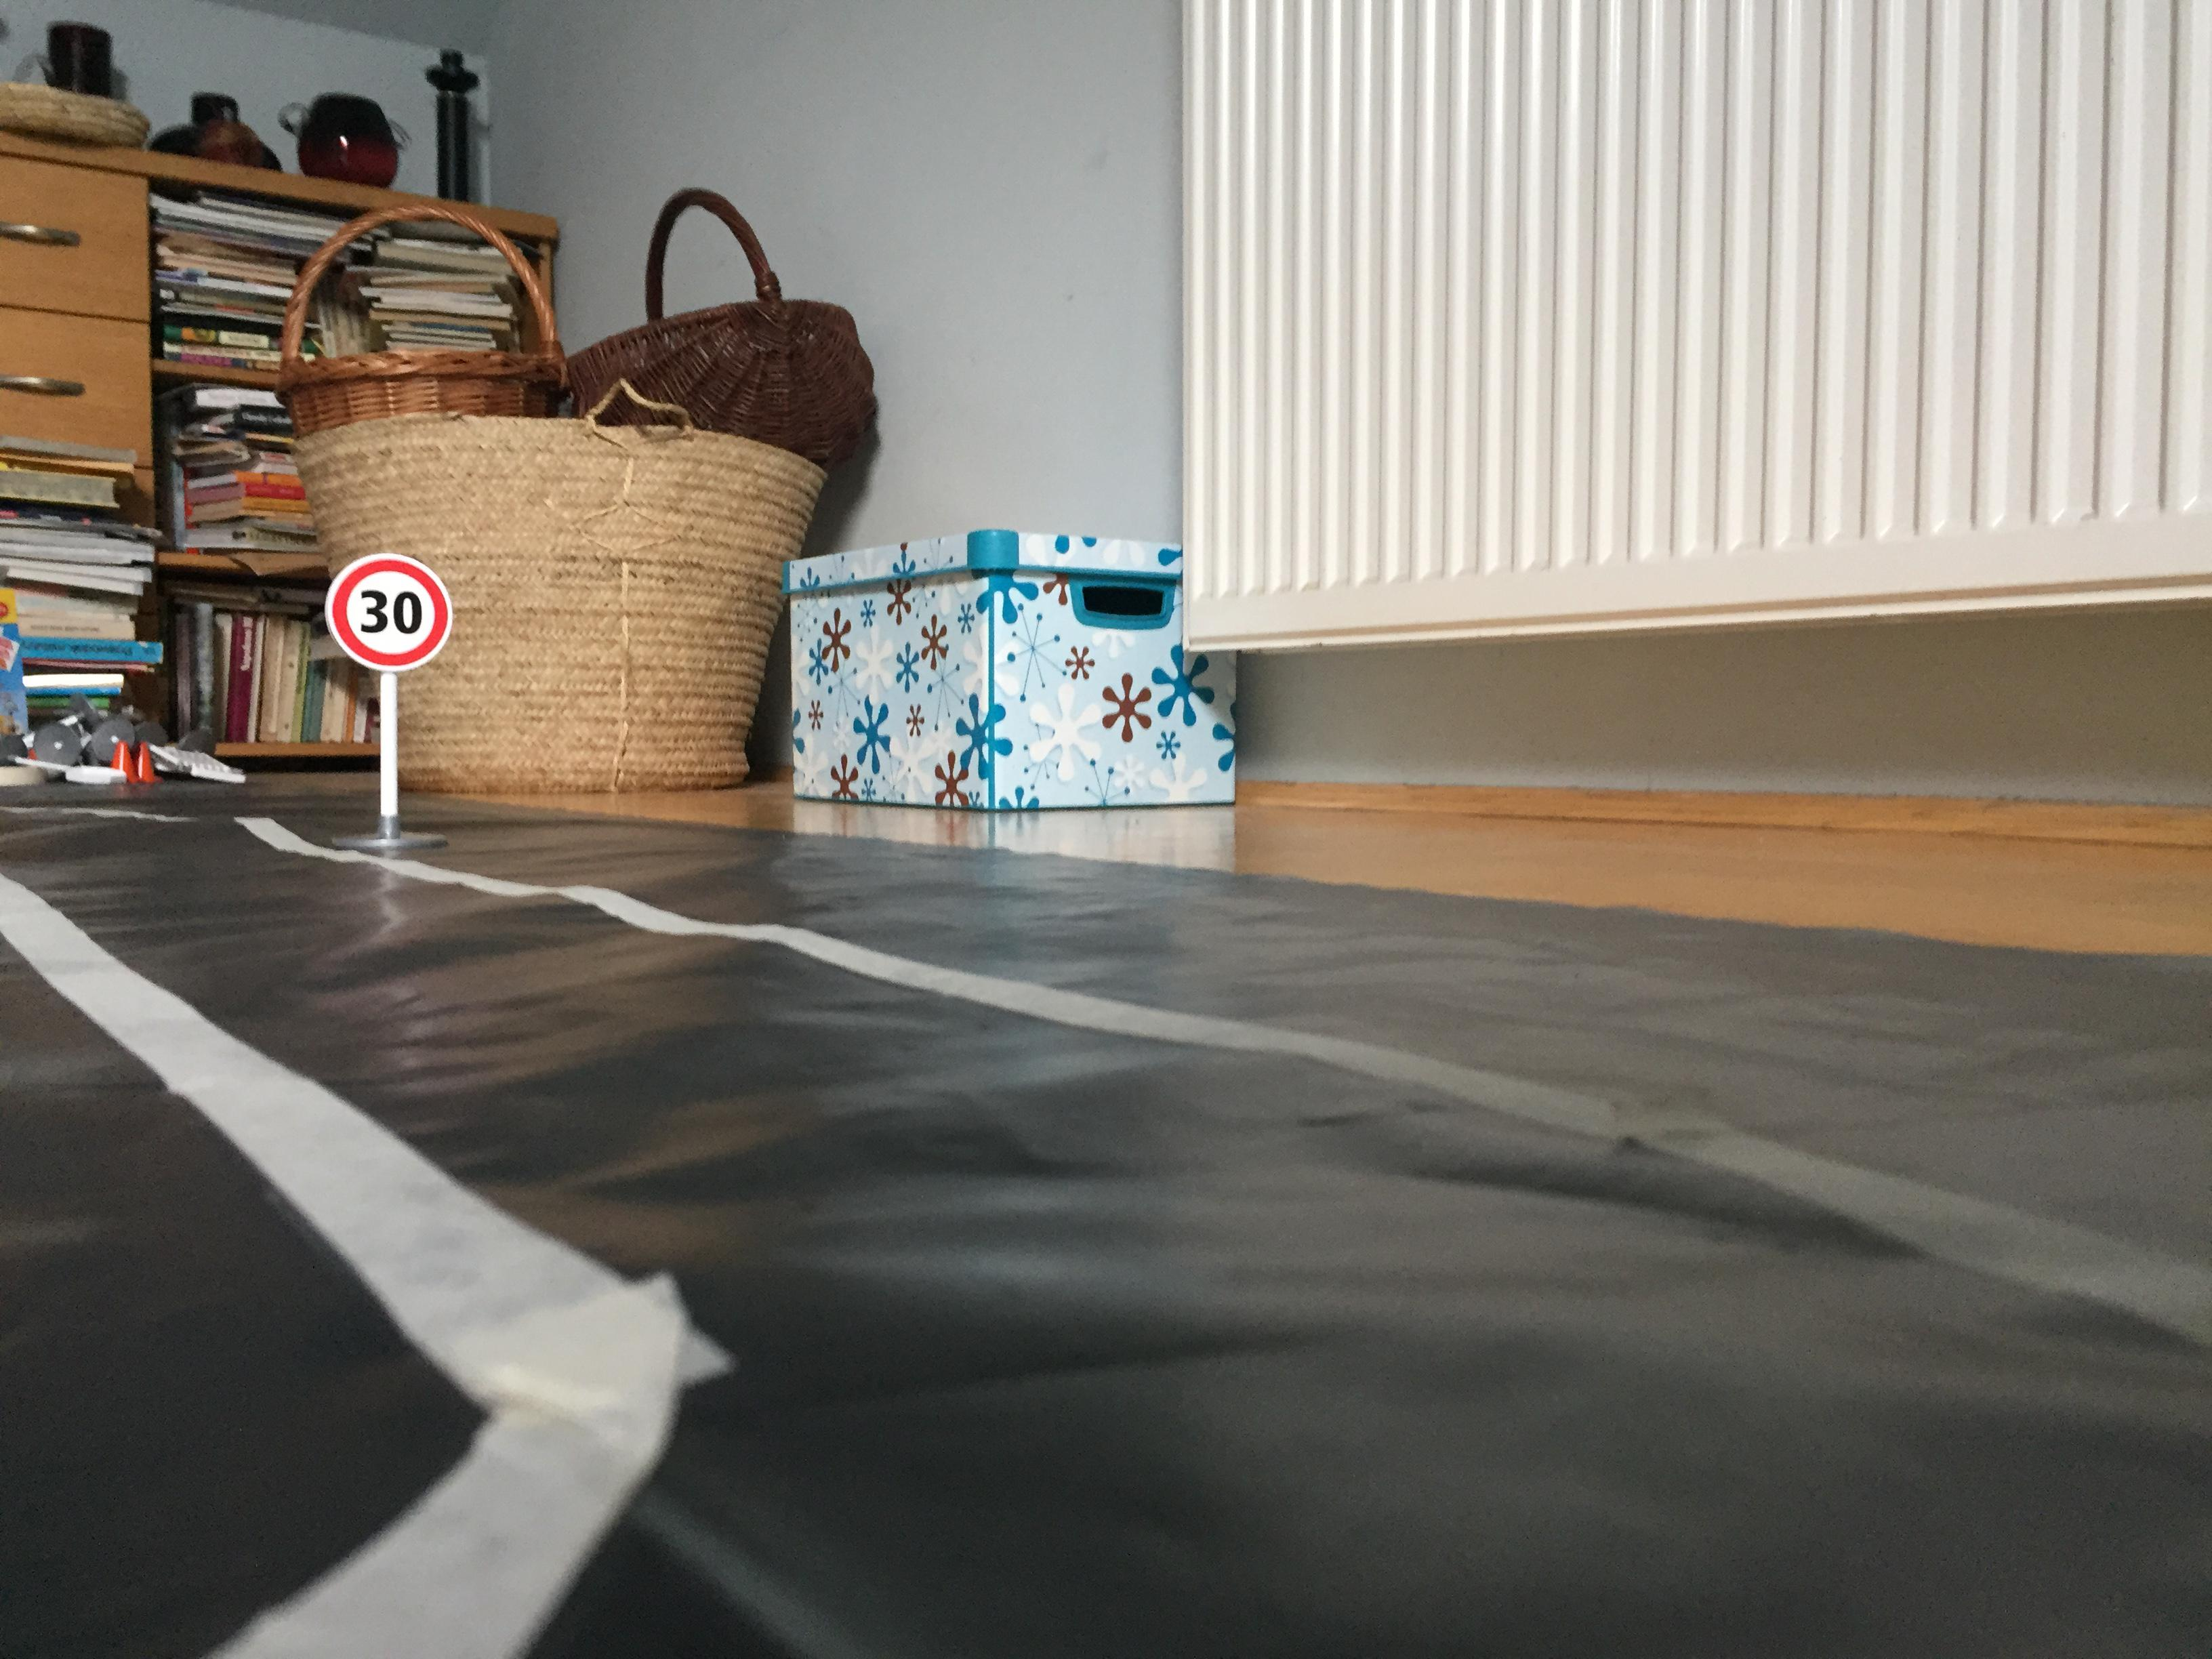speed: (310, 551, 451, 681)
